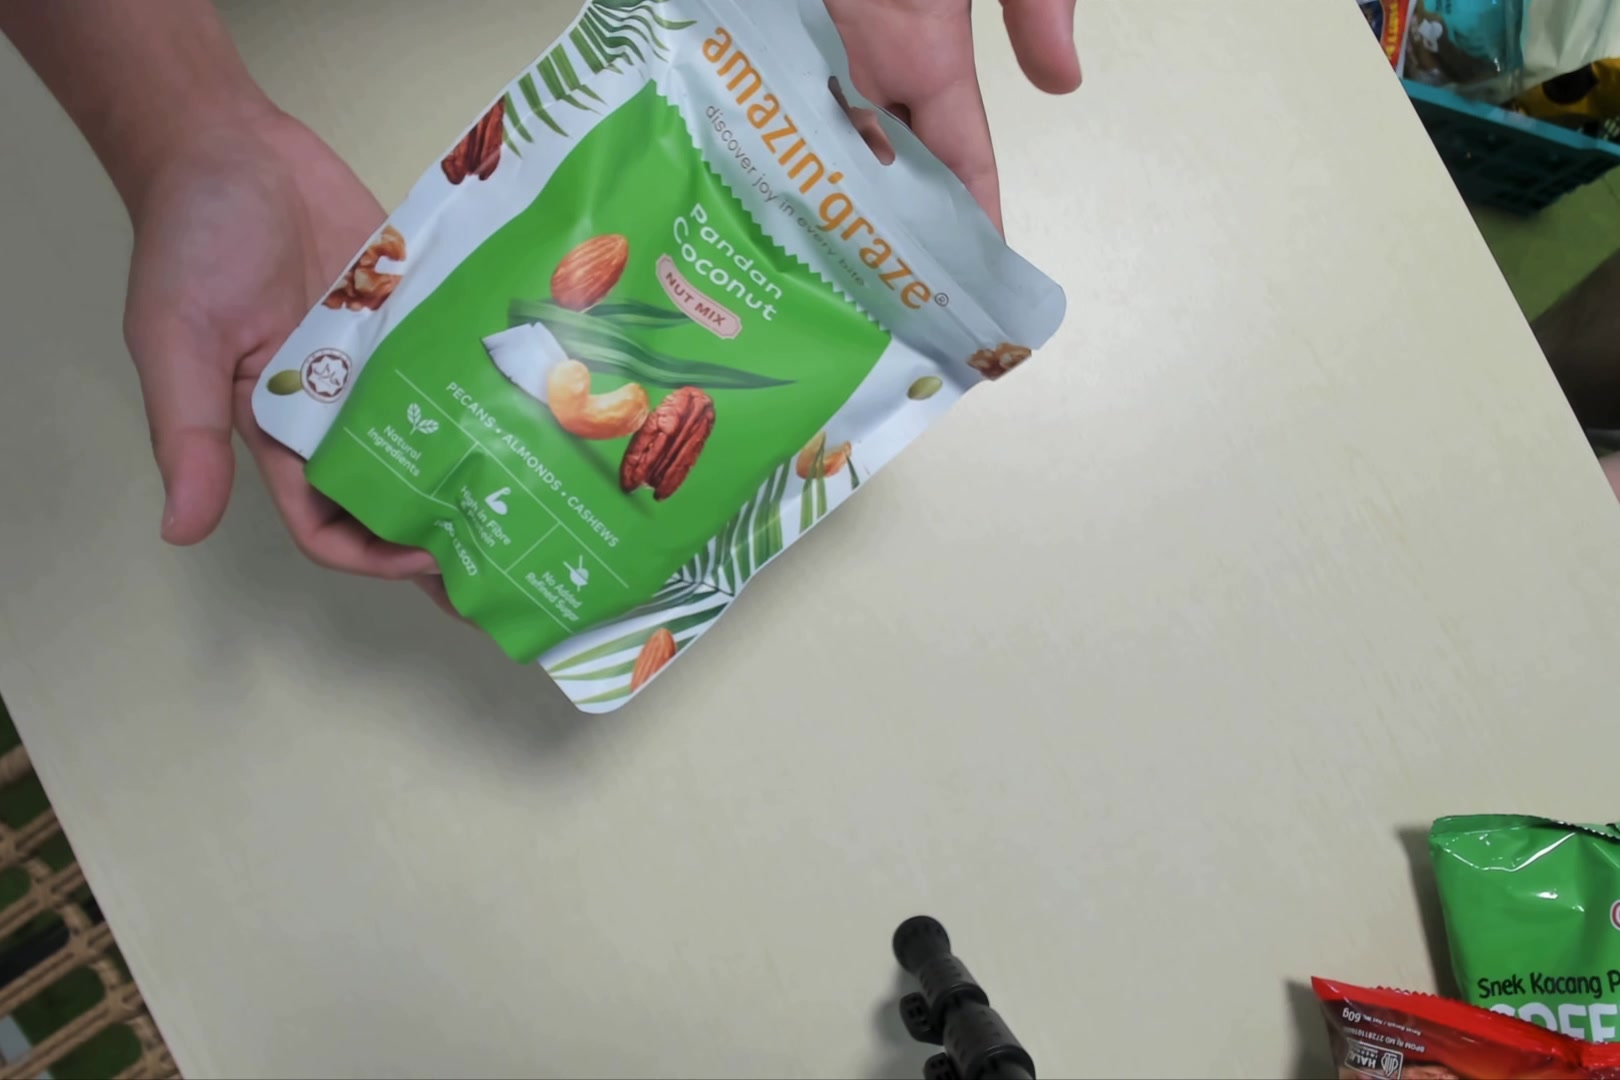Nuts_100-199g_Halal_NonHealthy: (252, 8, 1053, 727)
